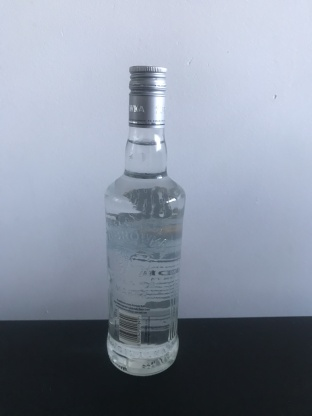nakretka: (127, 63, 167, 130)
